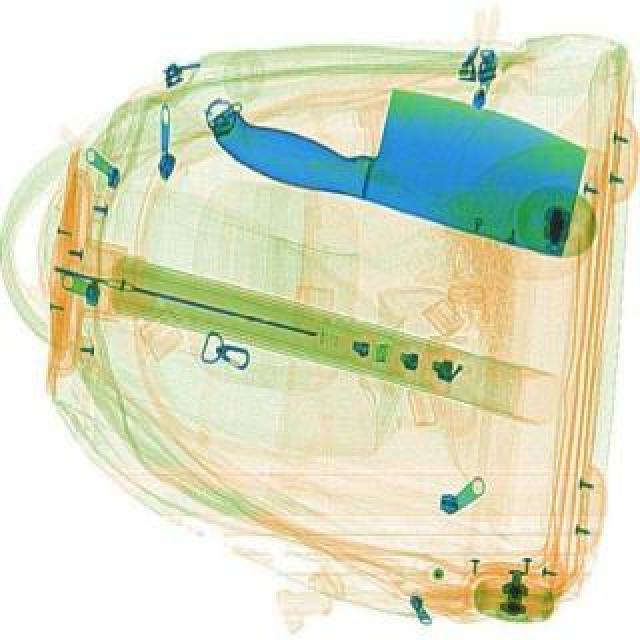knife: (202, 34, 608, 262)
